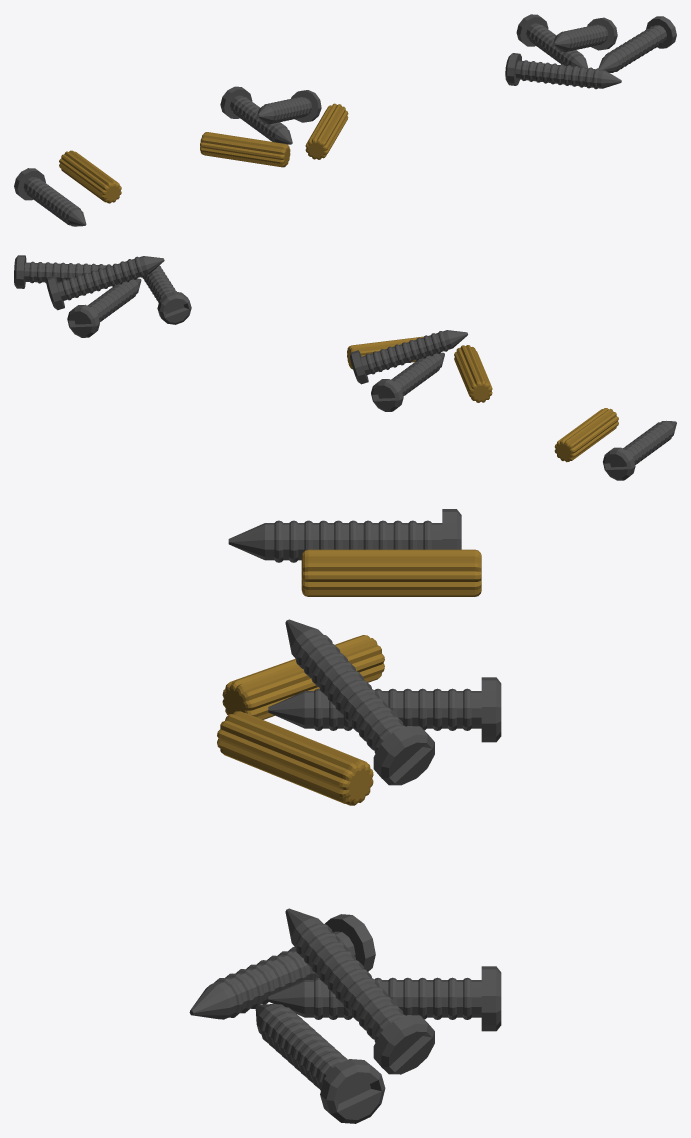
File: Screws.fbx
3 renders of one model, top to bottom at view 1: azimuth 30°, elevation 25°; view 2: azimuth 150°, elevation 25°; view 3: azimuth 270°, elevation 25°, orthographic. The views are drawn at different scales.
Parts seen in each view (by area): view 1: Screw.006, Cylinder.001, Screw, Screw.001, Cylinder, Screw.002, Cylinder.002; view 2: Screw.006, Screw.002, Screw, Screw.001, Cylinder, Cylinder.001, Cylinder.002; view 3: Screw.006, Cylinder, Screw.002, Cylinder.002, Screw, Screw.001, Cylinder.001.
Part boxes in pixels (box(x1,y1,x2,y2)): Screw.006: box(505, 14, 676, 89); Cylinder.001: box(200, 132, 290, 167); Screw: box(14, 168, 86, 226); Screw.001: box(220, 86, 292, 144); Cylinder: box(59, 150, 121, 203); Screw.002: box(257, 90, 321, 124); Cylinder.002: box(305, 103, 348, 159); Screw.006: box(14, 255, 191, 337); Screw.002: box(350, 330, 467, 384); Screw: box(603, 420, 676, 480); Screw.001: box(371, 352, 444, 411); Cylinder: box(554, 408, 618, 462); Cylinder.001: box(454, 345, 492, 402); Cylinder.002: box(347, 336, 423, 369); Screw.006: box(189, 908, 501, 1123); Cylinder: box(301, 549, 481, 596); Screw.002: box(285, 619, 434, 785); Cylinder.002: box(217, 711, 373, 805); Screw: box(228, 509, 461, 562); Screw.001: box(268, 677, 501, 742); Cylinder.001: box(222, 635, 384, 719).
Bounding box in the file's own units: 891 × 94.11 × 191.
